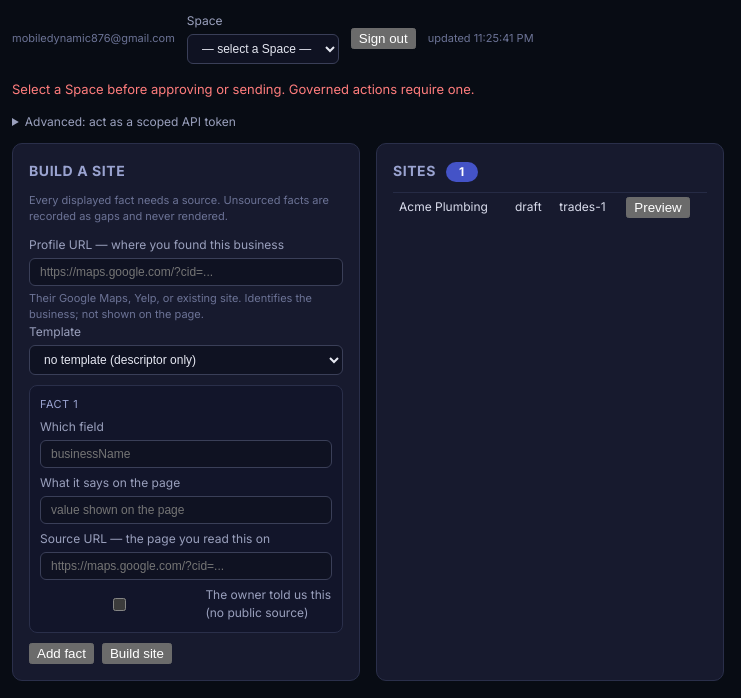
preview viewer › reports an expired preview instead of rendering a frame
The width and height of the screenshot is (741, 698).
Click the button "Preview": click(658, 207) [626,196,690,218]
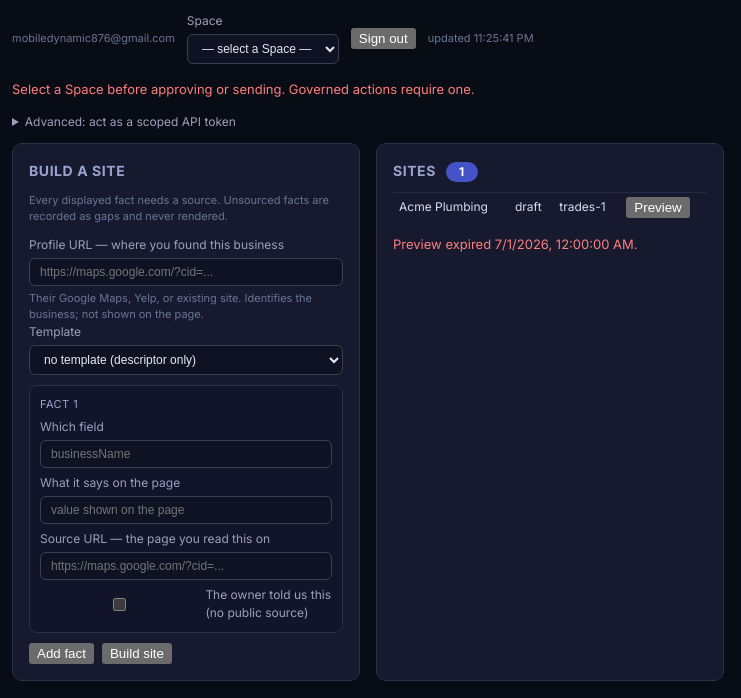
Expected: the message "Preview expired 7/1/2026, 12:00:00 AM." is shown, [393,236,638,252]
